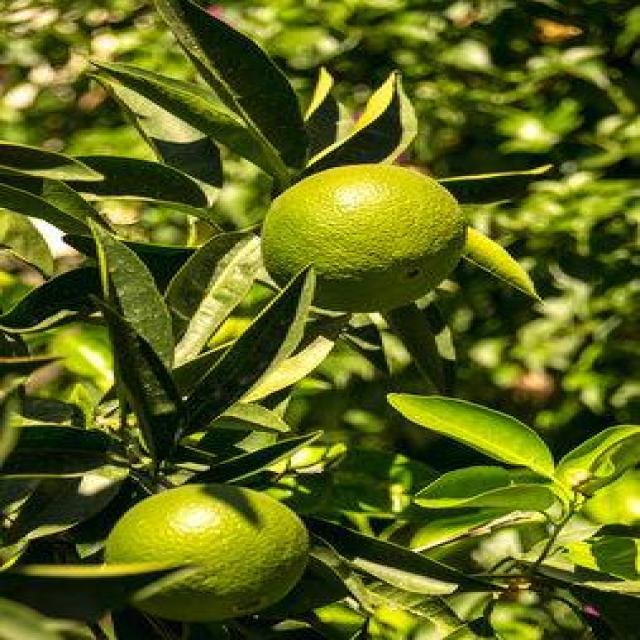Jeruk Belum Matang: (263, 163, 468, 310), (101, 487, 319, 621)
